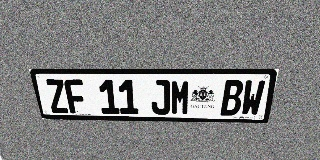1: (97, 79, 120, 114), (117, 79, 138, 114)
B: (220, 80, 244, 116)
F: (63, 79, 88, 114)
J: (150, 80, 170, 115)
M: (171, 80, 191, 115)
W: (240, 80, 266, 116)
Z: (44, 79, 70, 113)
